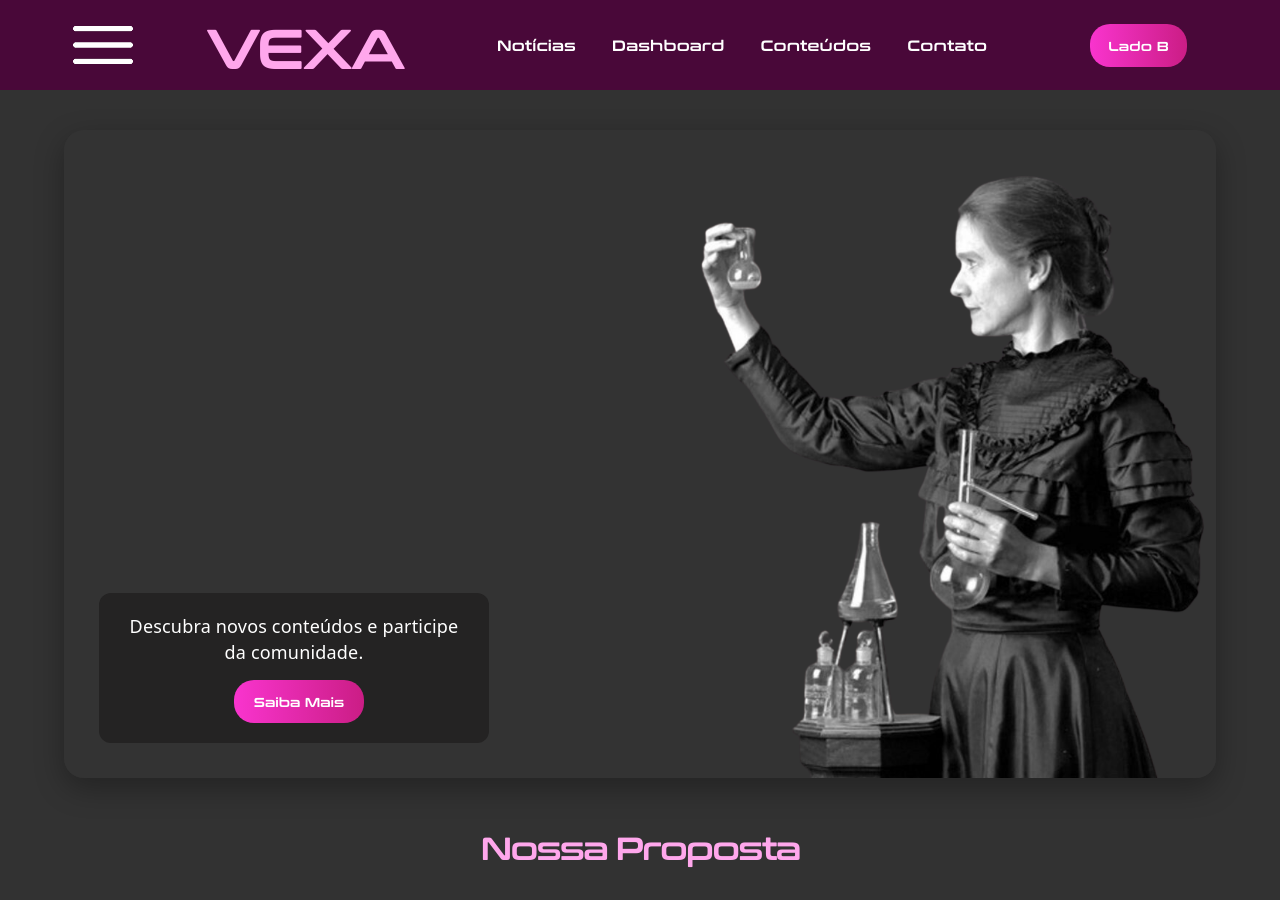
Test: Navegação entre os lados › página de informações -> botão "Lado B" leva ao catálogo
Click the link "Lado B" at (1139, 46), box [1090,24,1187,67]
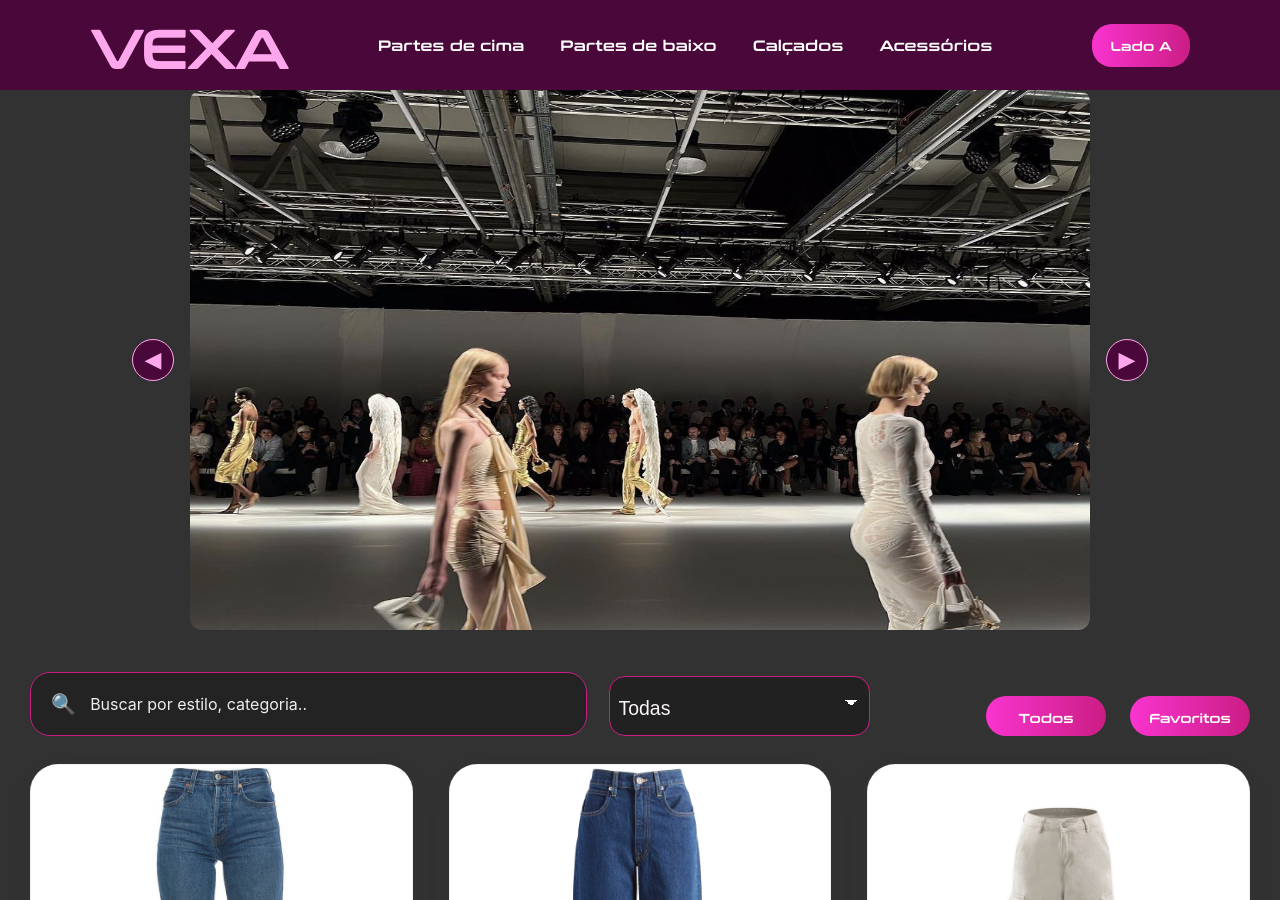
Expected: the search field with placeholder "Buscar por estilo, categoria.." is shown, [88,693,566,715]
